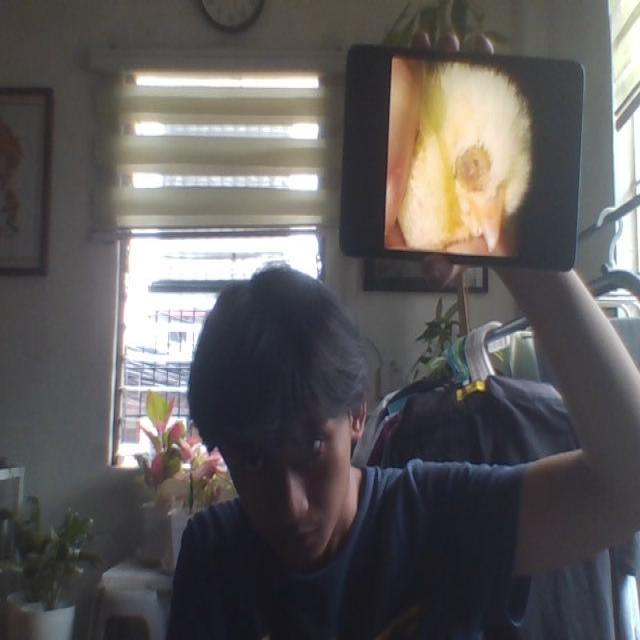Sick: (404, 58, 531, 250)
